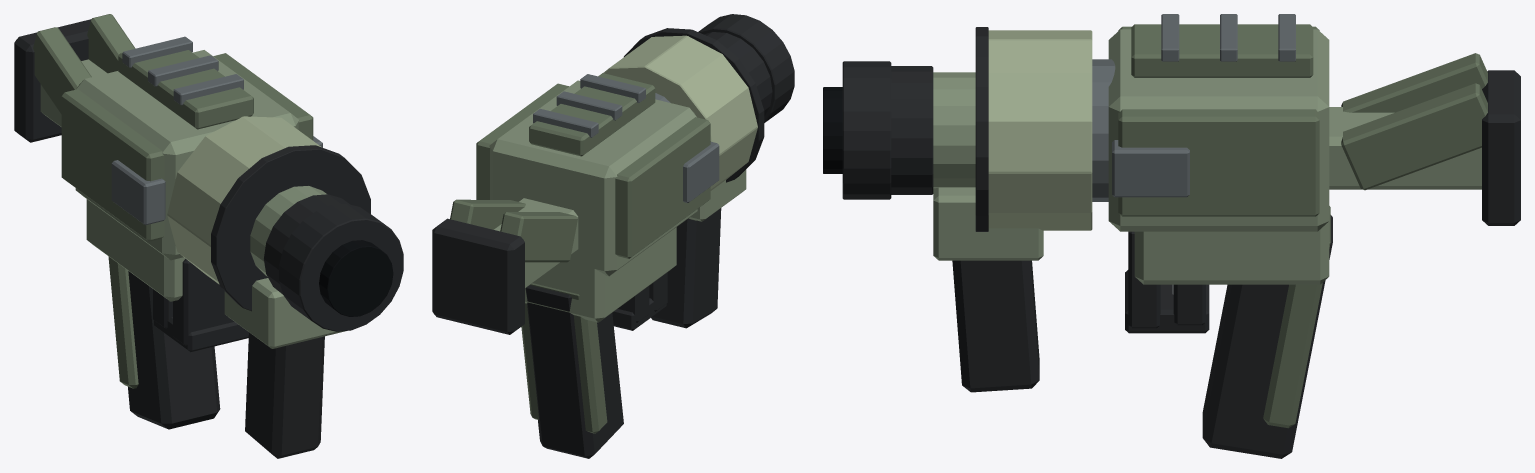
The model's file is GrenadeLauncher.glb.
3 views of the same model, side by side, from view 1: azimuth 30°, elevation 25°; view 2: azimuth 150°, elevation 25°; view 3: azimuth 270°, elevation 25° (orthographic). The views are drawn at different scales.
Parts seen in each view (by area): view 1: FTF_Tool_GrenadeLauncher_Olive_v5_Static; view 2: FTF_Tool_GrenadeLauncher_Olive_v5_Static; view 3: FTF_Tool_GrenadeLauncher_Olive_v5_Static.
Boxes of the visible parts, box(x1,y1,x2,y2) form: FTF_Tool_GrenadeLauncher_Olive_v5_Static: box(14, 14, 403, 458); FTF_Tool_GrenadeLauncher_Olive_v5_Static: box(432, 14, 794, 458); FTF_Tool_GrenadeLauncher_Olive_v5_Static: box(823, 14, 1520, 458).
Size of the model in its own units: 0.73 by 1.41 by 2.15.
